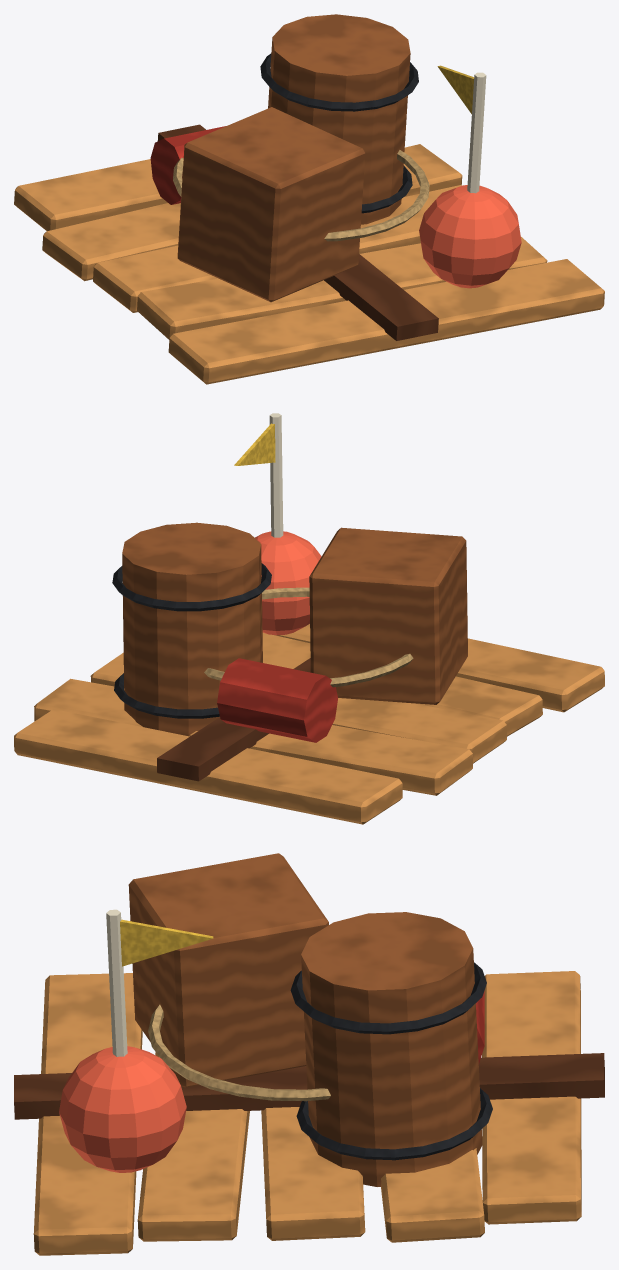
File: floating_salvage.glb
3 renders of one model, top to bottom at view 1: azimuth 30°, elevation 25°; view 2: azimuth 150°, elevation 25°; view 3: azimuth 270°, elevation 25°, orthographic. The views are drawn at different scales.
Parts seen in each view (by area): view 1: floating_salvage_mesh; view 2: floating_salvage_mesh; view 3: floating_salvage_mesh.
Boxes of the visible parts, x1=… form: floating_salvage_mesh: x1=14, y1=14, x2=604, y2=384; floating_salvage_mesh: x1=14, y1=413, x2=604, y2=824; floating_salvage_mesh: x1=14, y1=853, x2=604, y2=1255.
Size of the model in its own units: 2.3 by 1.3 by 2.4.
1 material, 1 textured.
